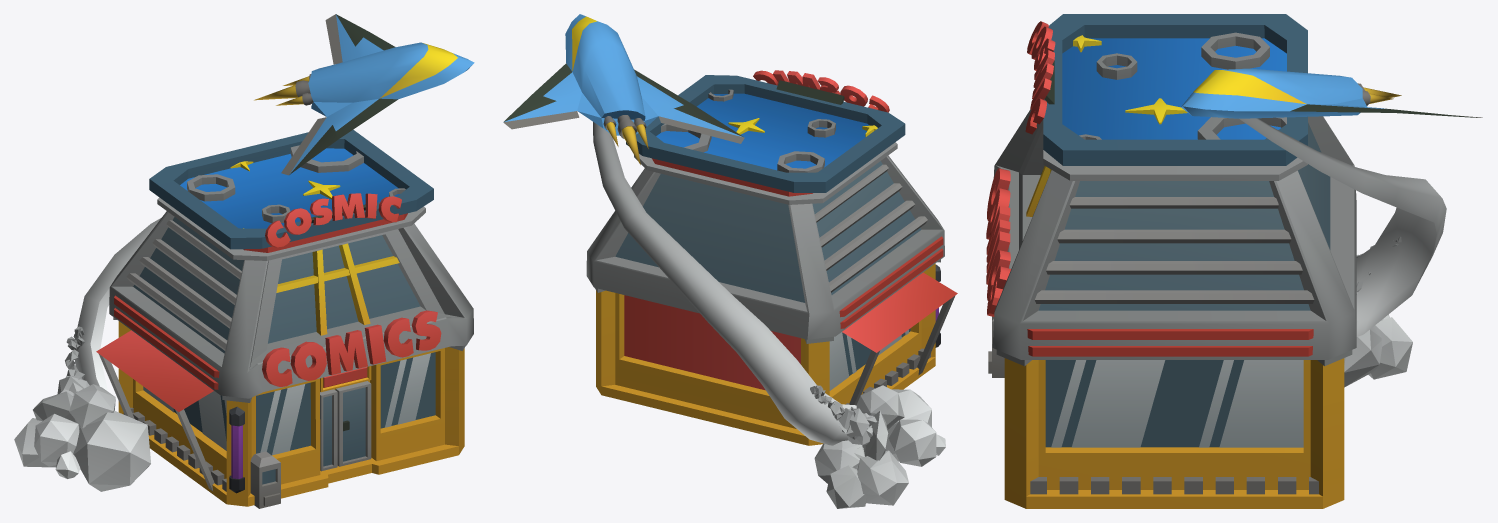
Rendered from Cosmic comics.fbx.
The picture shows the model from 3 angles, left to right: view 1: azimuth 30°, elevation 25°; view 2: azimuth 150°, elevation 25°; view 3: azimuth 270°, elevation 25°; orthographic projection. The views are drawn at different scales.
Visible parts, largest first — view 1: Cosmic_comics; view 2: Cosmic_comics; view 3: Cosmic_comics.
Boxes of the visible parts, box(x1,y1,x2,y2) form: Cosmic_comics: box(14, 14, 474, 508); Cosmic_comics: box(503, 14, 957, 508); Cosmic_comics: box(986, 14, 1482, 508).
Size of the model in its own units: 922 by 834 by 723.
